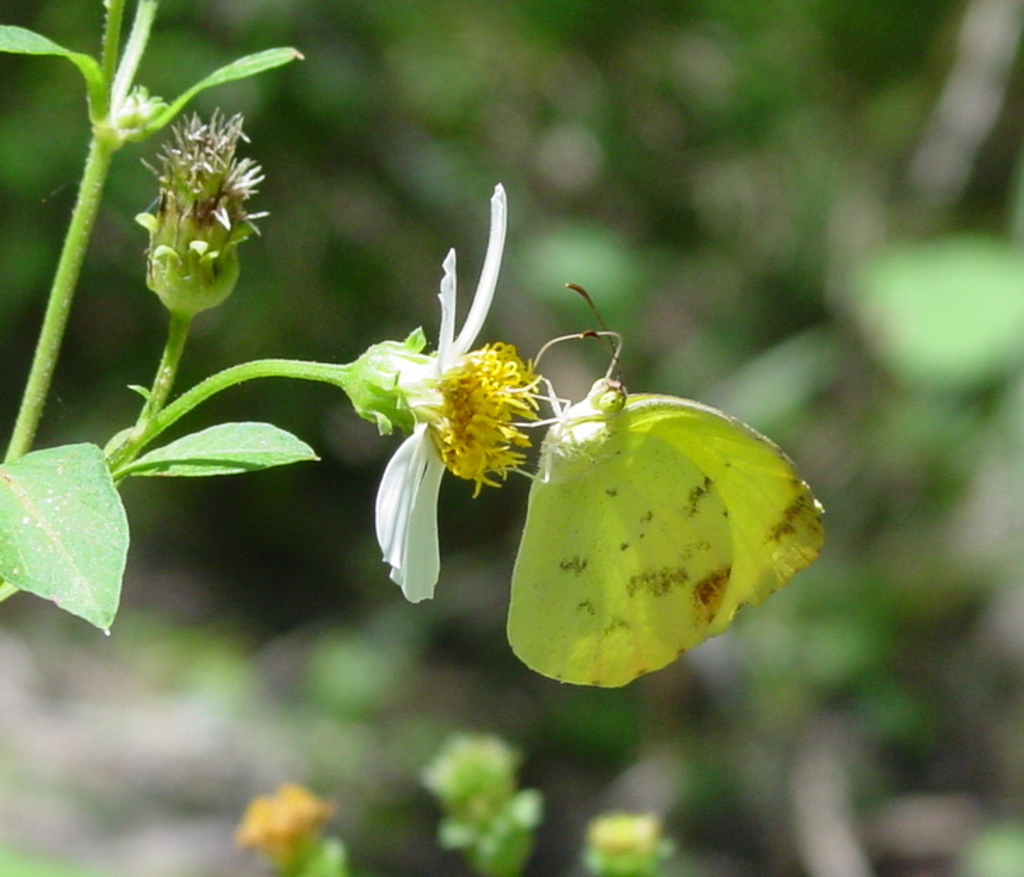Butterfly: (475, 326, 868, 707)
